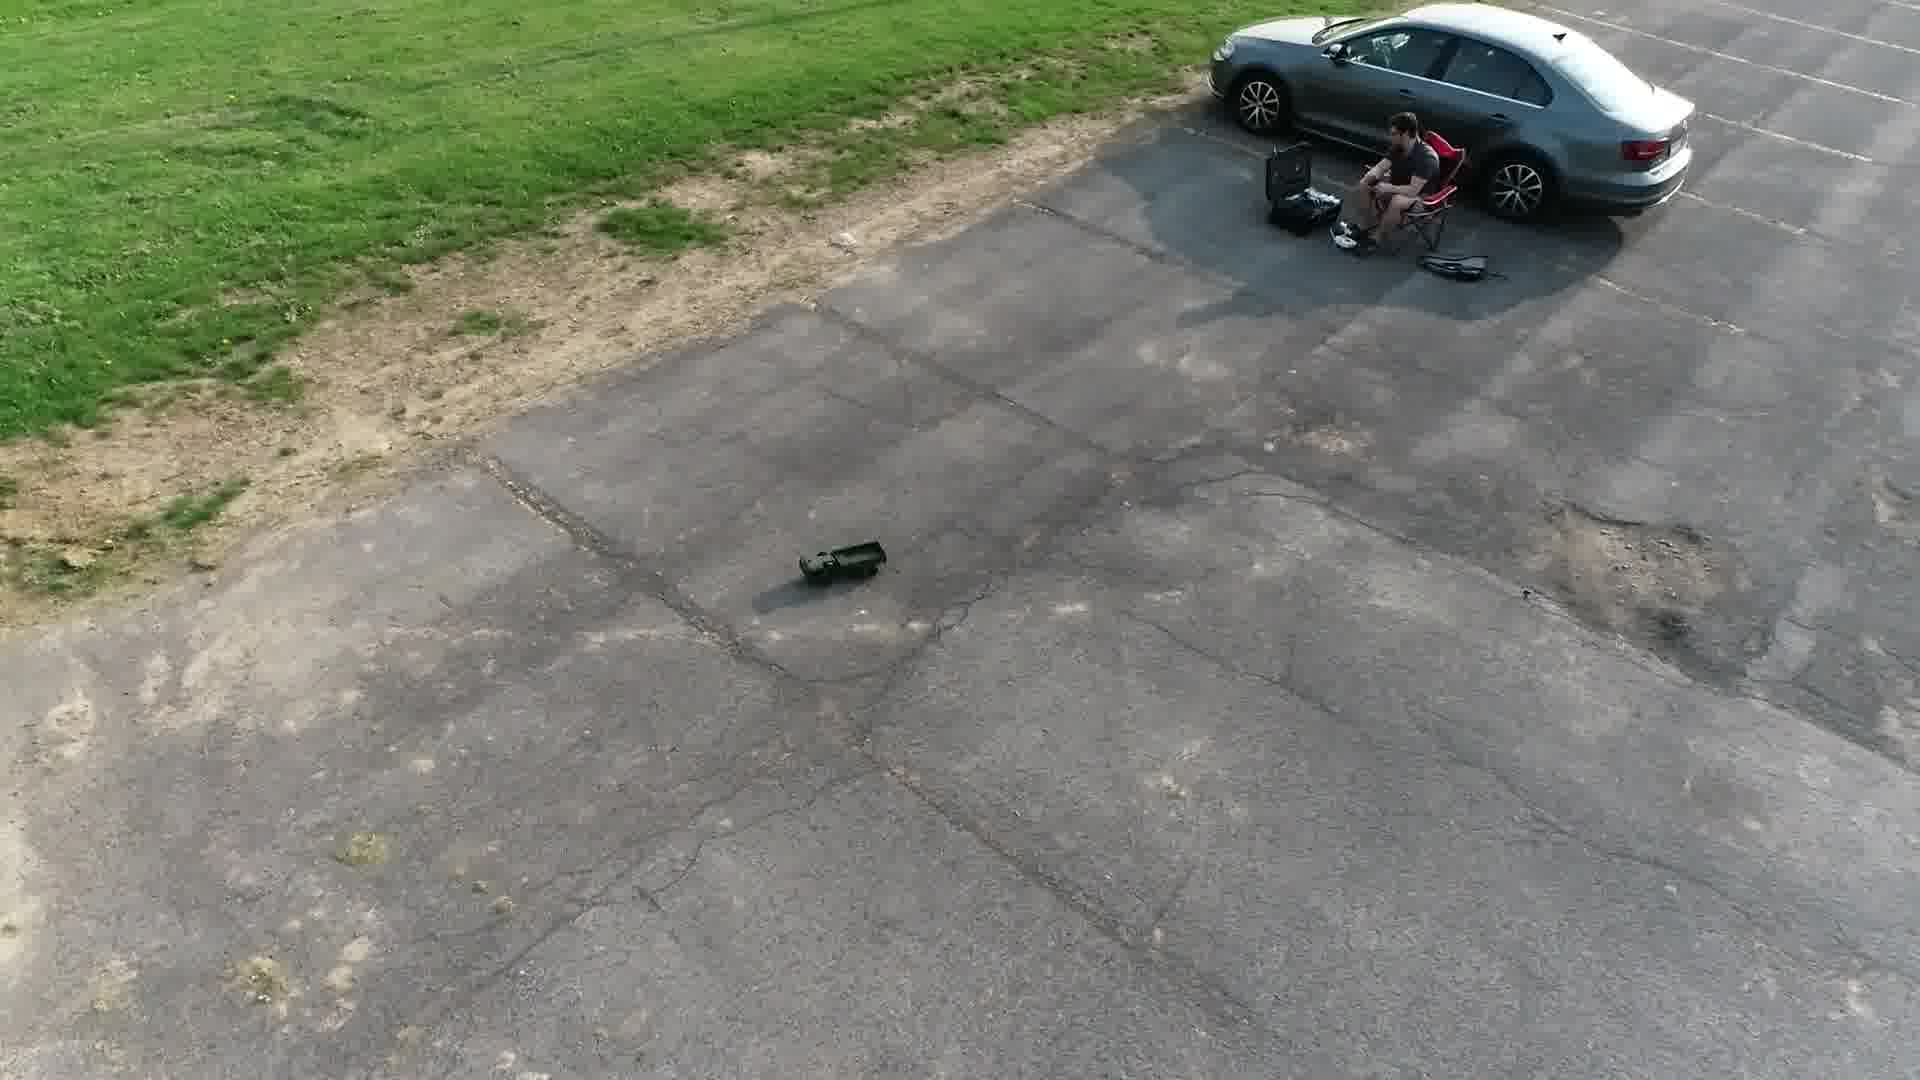transporter9: (794, 531, 891, 592)
